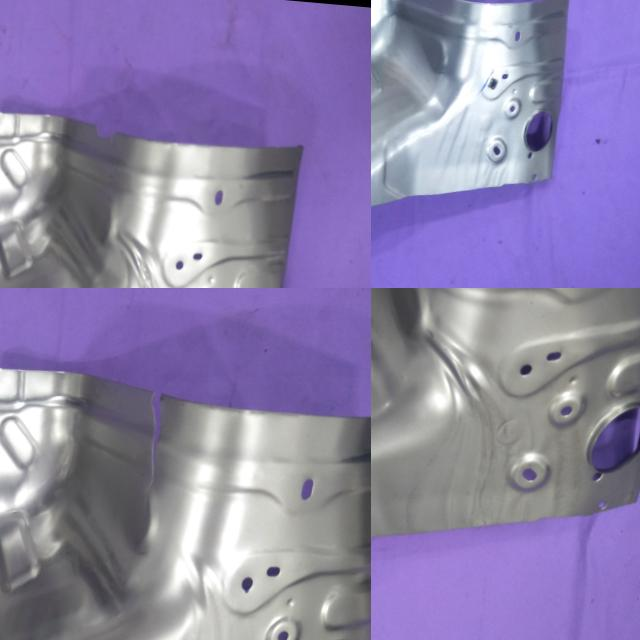Defect: (130, 384, 175, 494), (68, 112, 140, 156)
Healthy: (371, 0, 573, 254)
